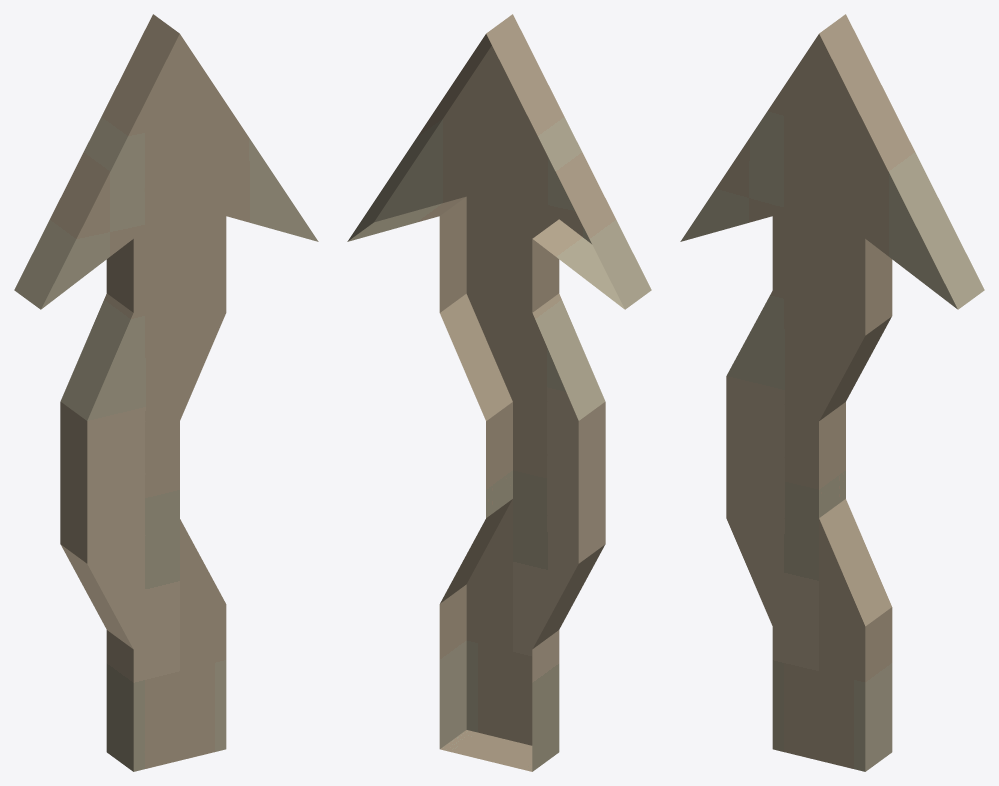
File: c2_hari_short.obj
3 renders of one model, left to right at view 1: azimuth 30°, elevation 25°; view 2: azimuth 150°, elevation 25°; view 3: azimuth 330°, elevation 25°, orthographic.
Parts seen in each view (by area): view 1: world_root; view 2: world_root; view 3: world_root.
Boxes of the visible parts, <box> form: world_root: <box>14,14,318,771</box>; world_root: <box>347,14,651,771</box>; world_root: <box>680,14,984,771</box>.
Bounding box in the file's own units: 7.5 × 18.75 × 1.25.
